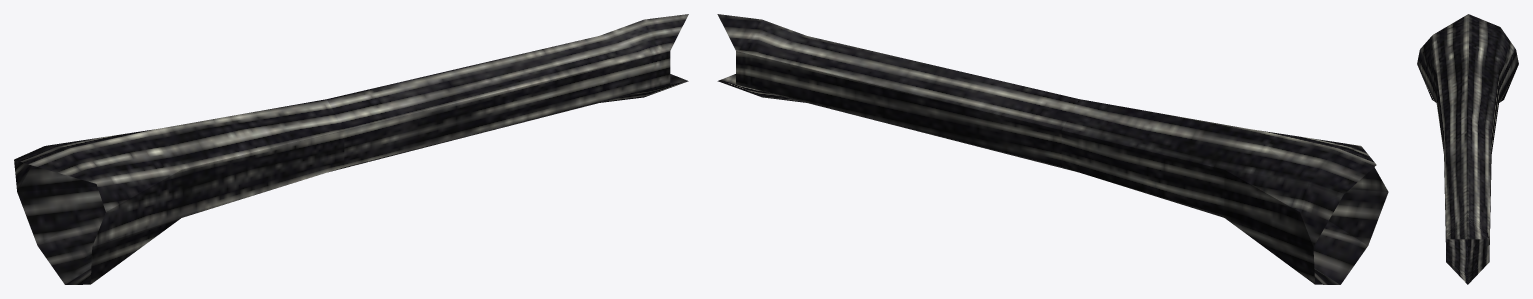
File: Jack_hombro_izq.obj
The picture shows the model from 3 angles, left to right: view 1: azimuth 30°, elevation 25°; view 2: azimuth 150°, elevation 25°; view 3: azimuth 270°, elevation 25°; orthographic projection. The views are drawn at different scales.
Visible parts, largest first — view 1: rdmobj01.005_rdmobj01.008; view 2: rdmobj01.005_rdmobj01.008; view 3: rdmobj01.005_rdmobj01.008.
Part boxes in pixels (x1,y1,x2,y2): rdmobj01.005_rdmobj01.008: [14, 14, 688, 284]; rdmobj01.005_rdmobj01.008: [717, 14, 1388, 284]; rdmobj01.005_rdmobj01.008: [1417, 14, 1518, 284].
Bounding box in the file's own units: 0.5265 × 0.1031 × 0.1038.
1 material, 1 textured.
